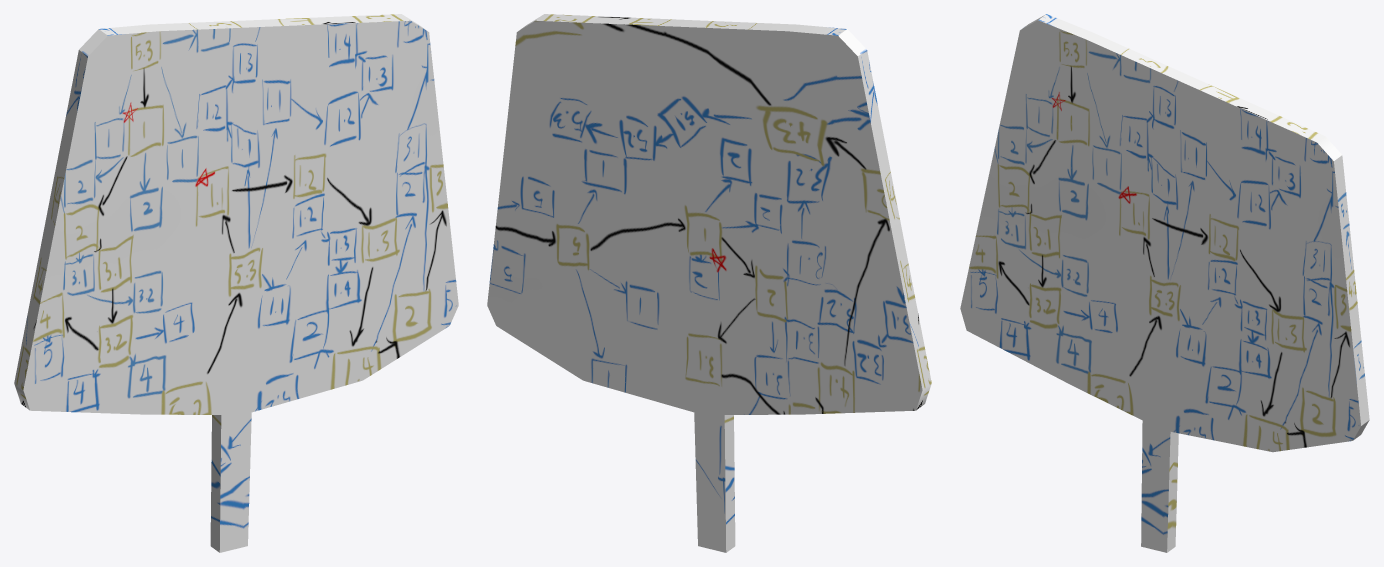
The model's file is mhy_swing.fbx.
3 renders of one model, left to right at view 1: azimuth 30°, elevation 25°; view 2: azimuth 150°, elevation 25°; view 3: azimuth 330°, elevation 25°, orthographic. The views are drawn at different scales.
Visible parts, largest first — view 1: swing; view 2: swing; view 3: swing.
Part boxes in pixels (x1=…): swing: x1=14, y1=14, x2=458, y2=552; swing: x1=487, y1=14, x2=931, y2=552; swing: x1=960, y1=14, x2=1369, y2=552.
Size of the model in its own units: 136 by 163 by 5.
